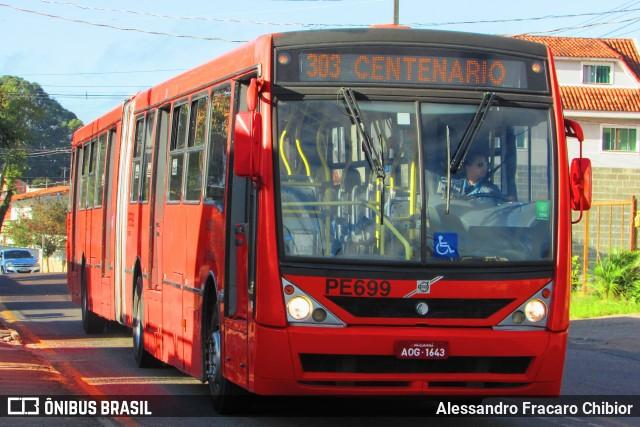CENTENARIO: (348, 53, 509, 88)
